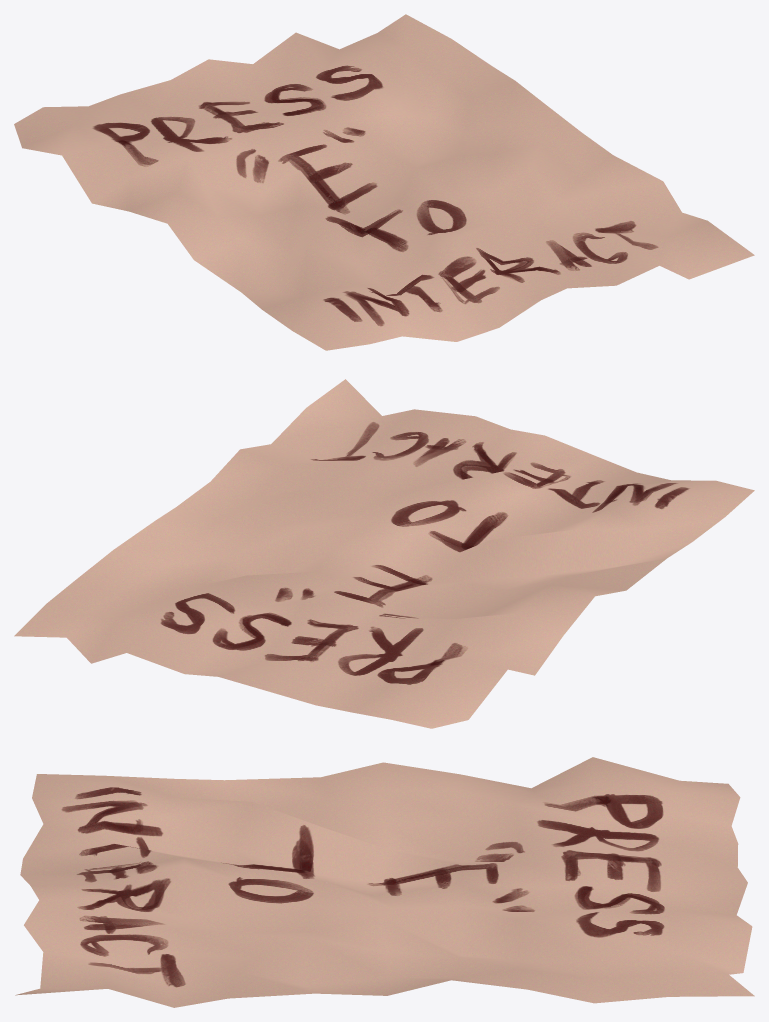
File: pressE.fbx
3 views of the same model, one above another, from view 1: azimuth 30°, elevation 25°; view 2: azimuth 150°, elevation 25°; view 3: azimuth 270°, elevation 25° (orthographic). The views are drawn at different scales.
Visible parts, largest first — view 1: Plane; view 2: Plane; view 3: Plane.
Boxes of the visible parts, x1,y1,x2,y2 form: Plane: [14, 14, 754, 350]; Plane: [14, 379, 754, 728]; Plane: [15, 757, 754, 1007].
Size of the model in its own units: 130 by 11.38 by 176.
